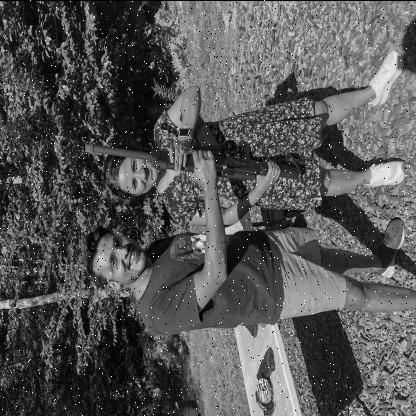rifle: (84, 110, 302, 181)
